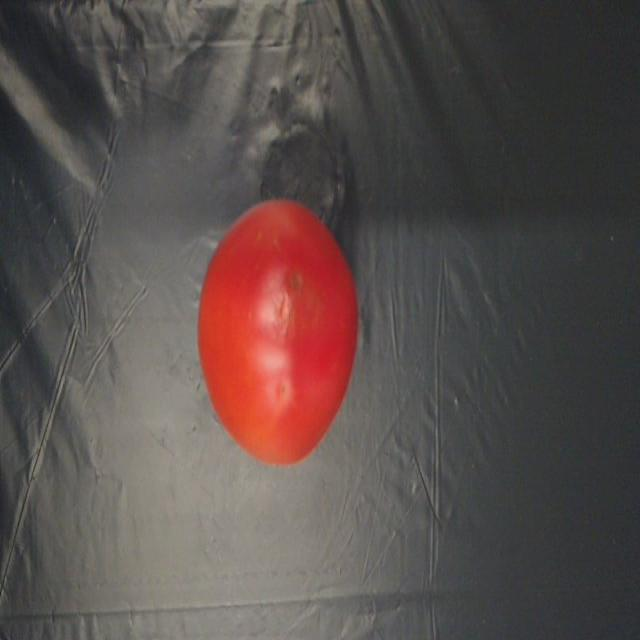kirmizi: (184, 187, 376, 457)
